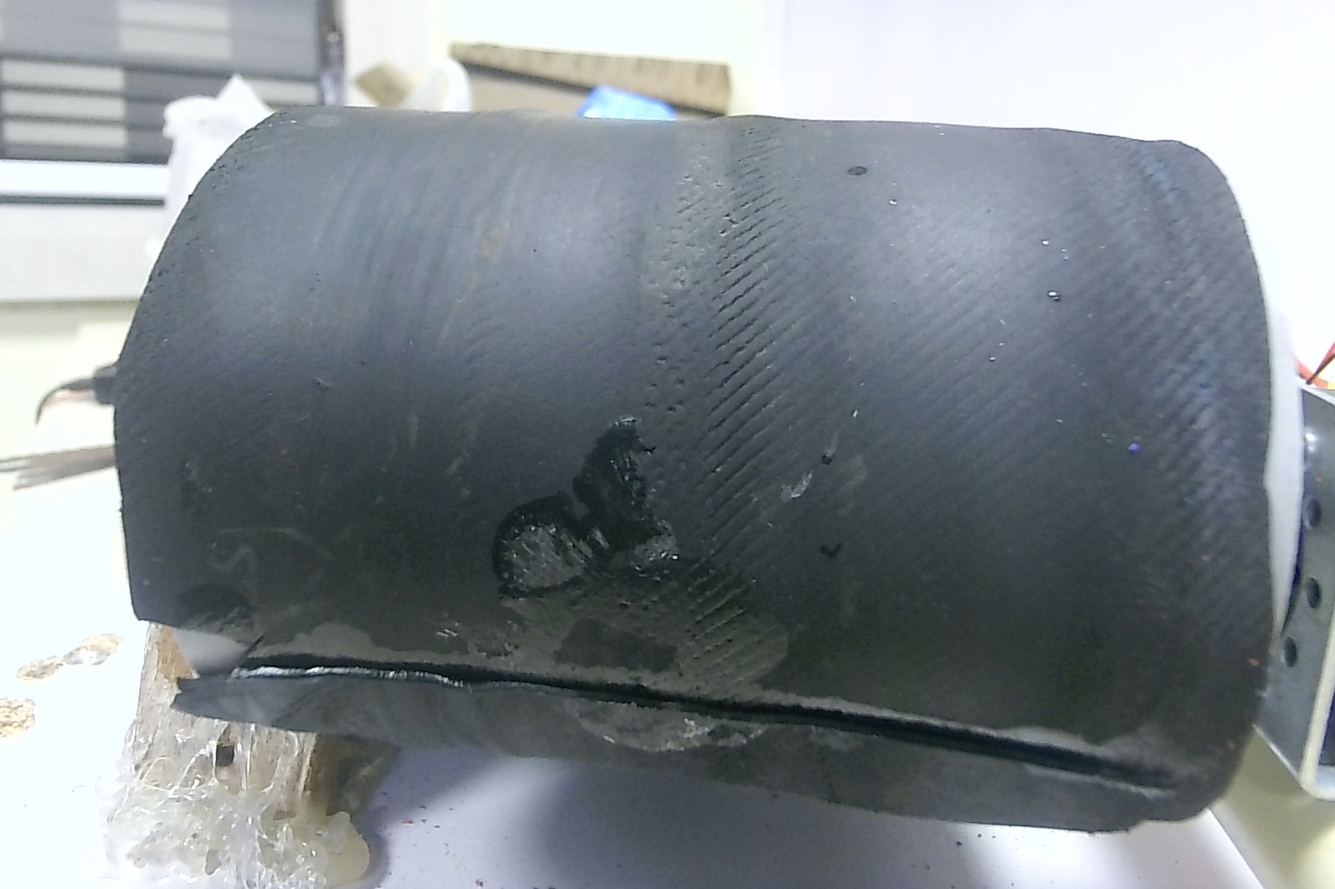joint_damage: (127, 575, 413, 695)
